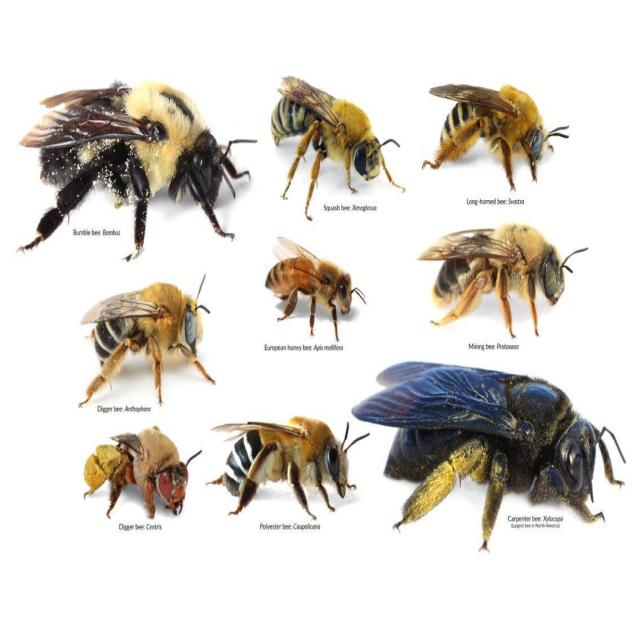Apis-mellifera-scutellata: (262, 228, 369, 365)
Xylocopa: (358, 344, 622, 581)
